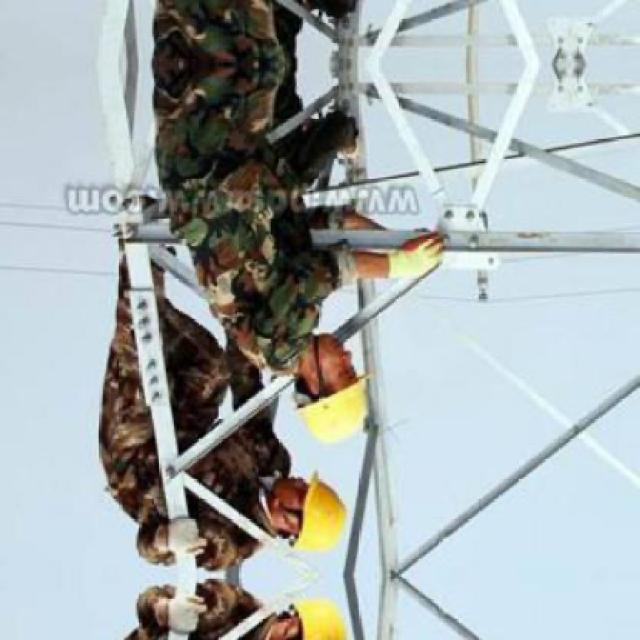con casco: (238, 456, 356, 551), (290, 334, 370, 422)
